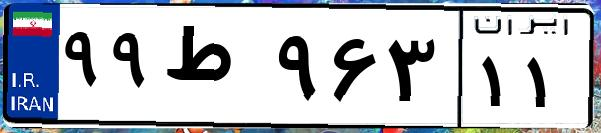1: (475, 38, 525, 113), (525, 38, 570, 115)
3: (385, 28, 445, 110)
6: (330, 28, 385, 110)
9: (270, 28, 330, 110), (57, 26, 110, 100), (110, 28, 158, 98)
ط: (158, 20, 270, 120)
